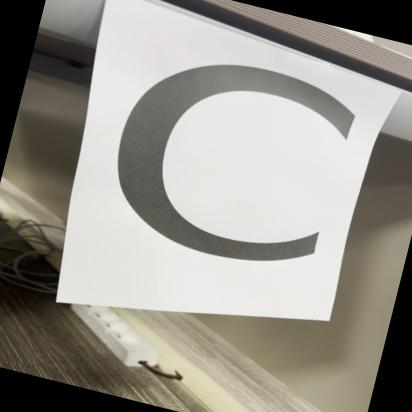seat: (61, 3, 390, 326)
